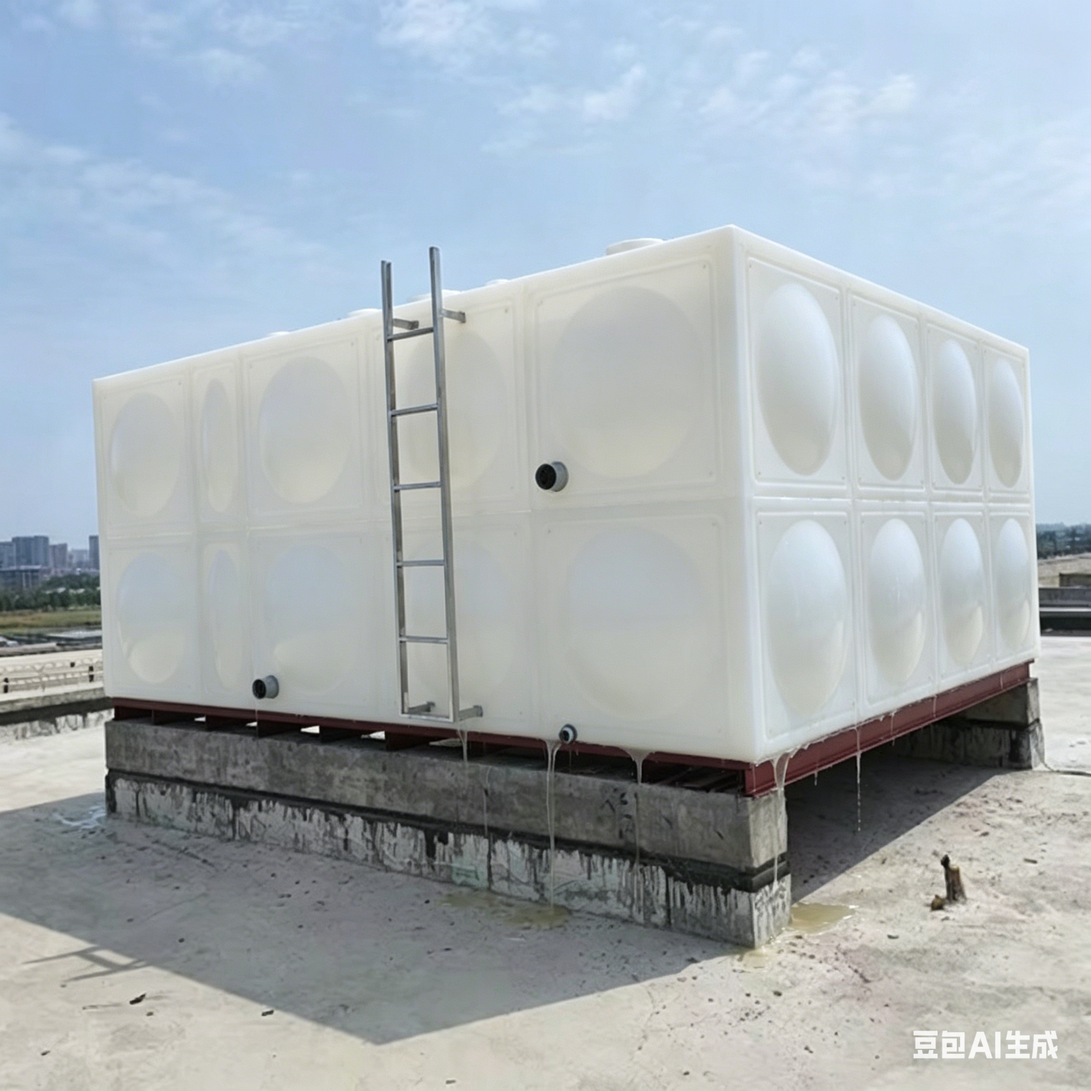Leakage: (812, 714, 913, 896), (529, 728, 578, 882), (752, 740, 790, 935), (626, 730, 664, 902)
